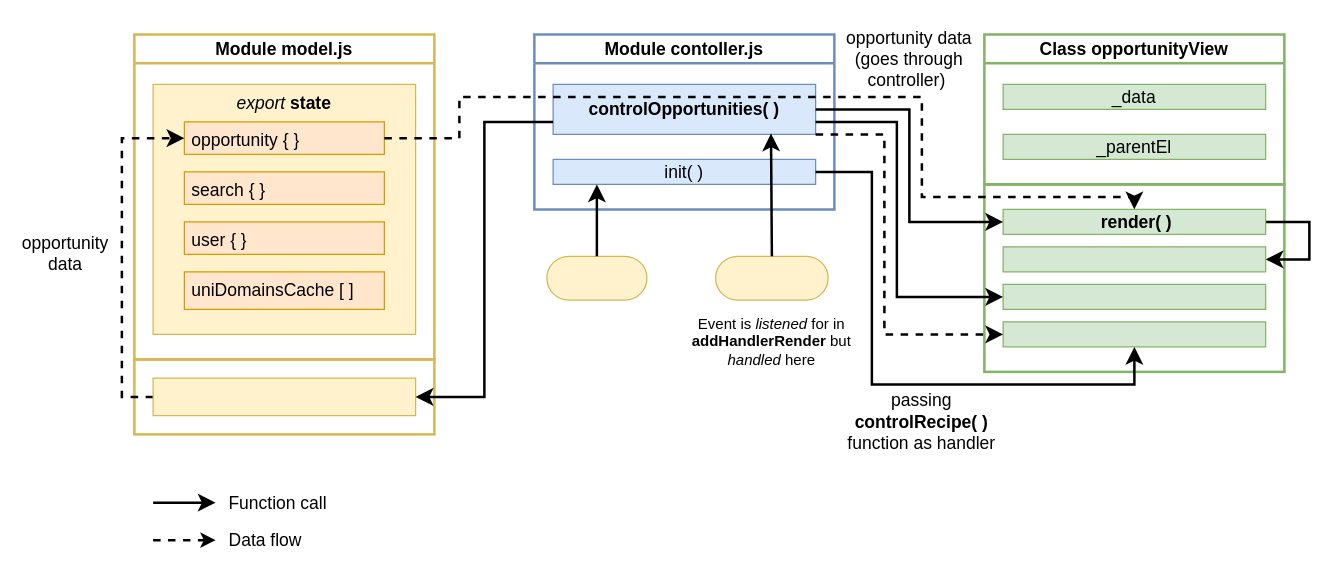
The diagram is 1344 pixels wide and 580 high, and some of its shapes have lost their labels. Here are the shapes that lost their labels. From the top down, the centre of each, then its label:
At pixel 596 277: "Program starts".
At pixel 771 277: "User clicks search result".
At pixel 1134 259: "_generateMarkup( )".
At pixel 1134 296: "renderSpinner( )".
At pixel 1134 334: "addHandlerRender( )".
At pixel 284 396: "export loadOpportunity( )".
